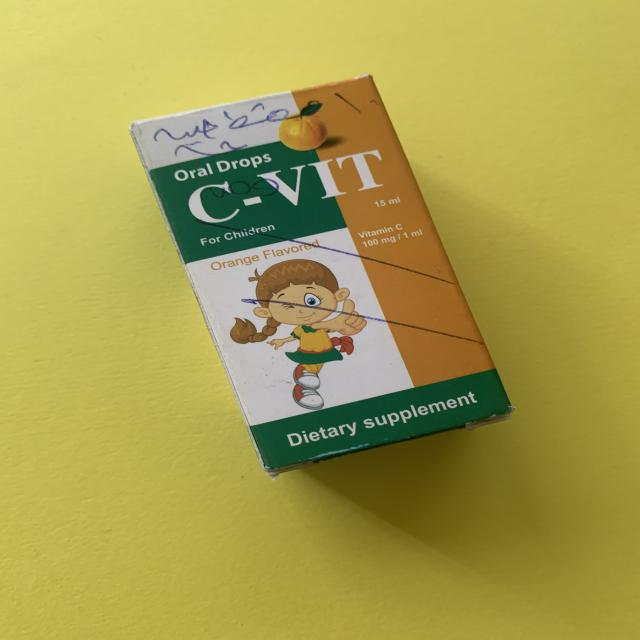C-VIT: (120, 71, 526, 486)
